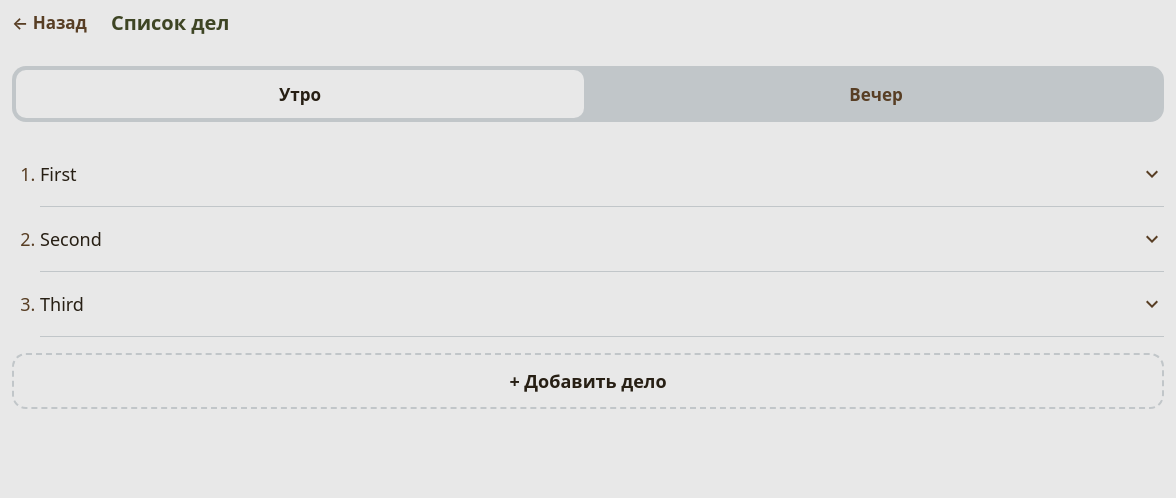
Scenario: Editor: reordering › disables "Выше" for the first task and "Ниже" for the last
Click the button "First".
click(58, 174)  # box [40,150,1164,198]
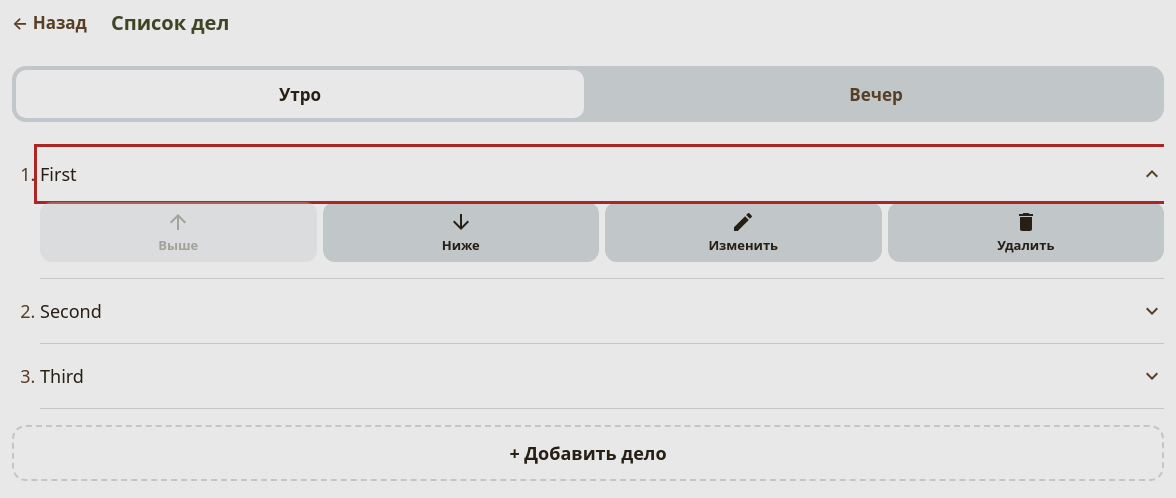
Expected: the button "Выше" is disabled, [40,202,316,262]
Expected: the button "Ниже" is enabled, [322,202,599,262]
Click the button "Third".
click(62, 376)  # box [40,352,1164,400]
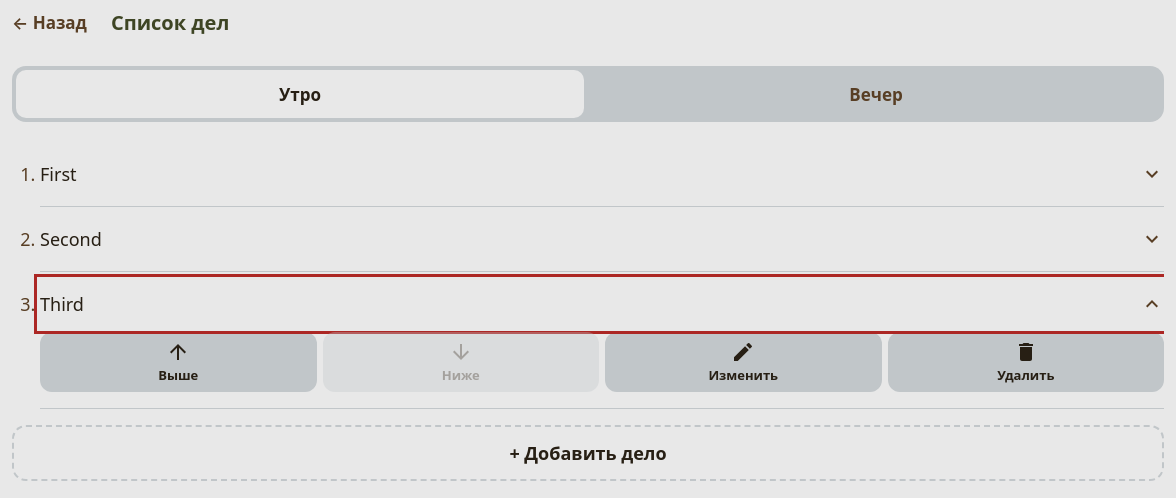
Expected: the button "Выше" is enabled, [40,332,316,392]
Expected: the button "Ниже" is disabled, [322,332,599,392]
